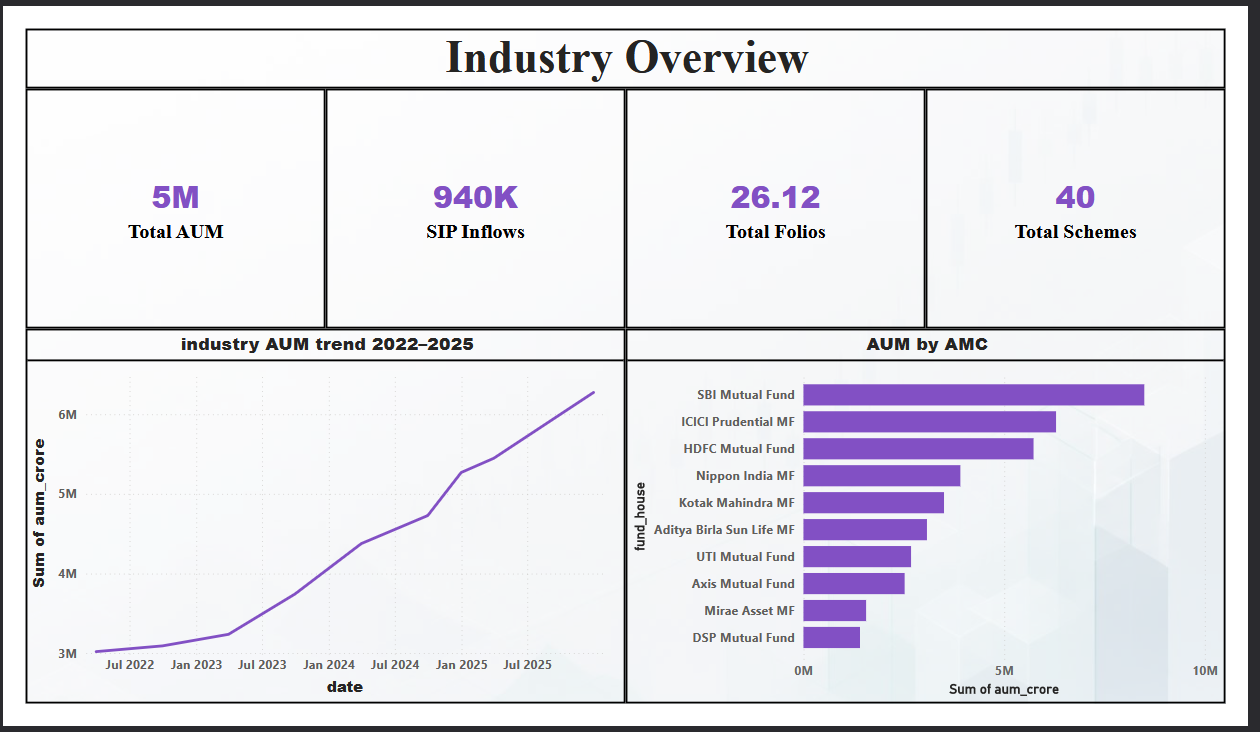

The dashboard page shown, as its layout file describes it:
{"tool":"powerbi","page":{"name":"Industry Overview","canvas":[1280,720],"ordinal":0},"visuals":[{"type":"card","title":"Total AUM","fields":{"Values":["Sum(07_scheme_performance.amfi_code)"]},"box":[0,64,320,256],"z":0},{"type":"card","fields":{"Values":["Sum(04_monthly_sip_inflows.sip_inflow_crore)"]},"box":[320,64,320,256],"z":1000},{"type":"card","fields":{"Values":["Max(06_industry_folio_count.total_folios_crore)"]},"box":[640,64,320,256],"z":2000},{"type":"card","fields":{"Values":["Count(01_fund_master.amfi_code)"]},"box":[960,64,320,256],"z":3000},{"type":"lineChart","title":"industry AUM trend 2022–2025","fields":{"Category":["03_aum_by_fund_house.date"],"Y":["Sum(03_aum_by_fund_house.aum_crore)"]},"box":[0,320,640,400],"z":4000},{"type":"clusteredBarChart","title":"AUM by AMC","fields":{"Category":["03_aum_by_fund_house.fund_house"],"Y":["Sum(03_aum_by_fund_house.aum_crore)"]},"box":[640,320,640,400],"z":5000},{"type":"textbox","title":"Industry Overview","box":[0,0,1280,64],"z":6000}]}

Visuals, with their boxes on the page's 1280x720 design canvas (x1, y1, x2, y2). These are canvas units, not pixel positions in the 1260x732 screenshot, which may show the page scaled, cropped or inside an application window:
"Total AUM" card: [left=0, top=64, right=320, bottom=320]
card - Sum(04_monthly_sip_inflows.sip_inflow_crore): [left=320, top=64, right=640, bottom=320]
card - Max(06_industry_folio_count.total_folios_crore): [left=640, top=64, right=960, bottom=320]
card - Count(01_fund_master.amfi_code): [left=960, top=64, right=1280, bottom=320]
"industry AUM trend 2022–2025" lineChart: [left=0, top=320, right=640, bottom=720]
"AUM by AMC" clusteredBarChart: [left=640, top=320, right=1280, bottom=720]
"Industry Overview" textbox: [left=0, top=0, right=1280, bottom=64]
